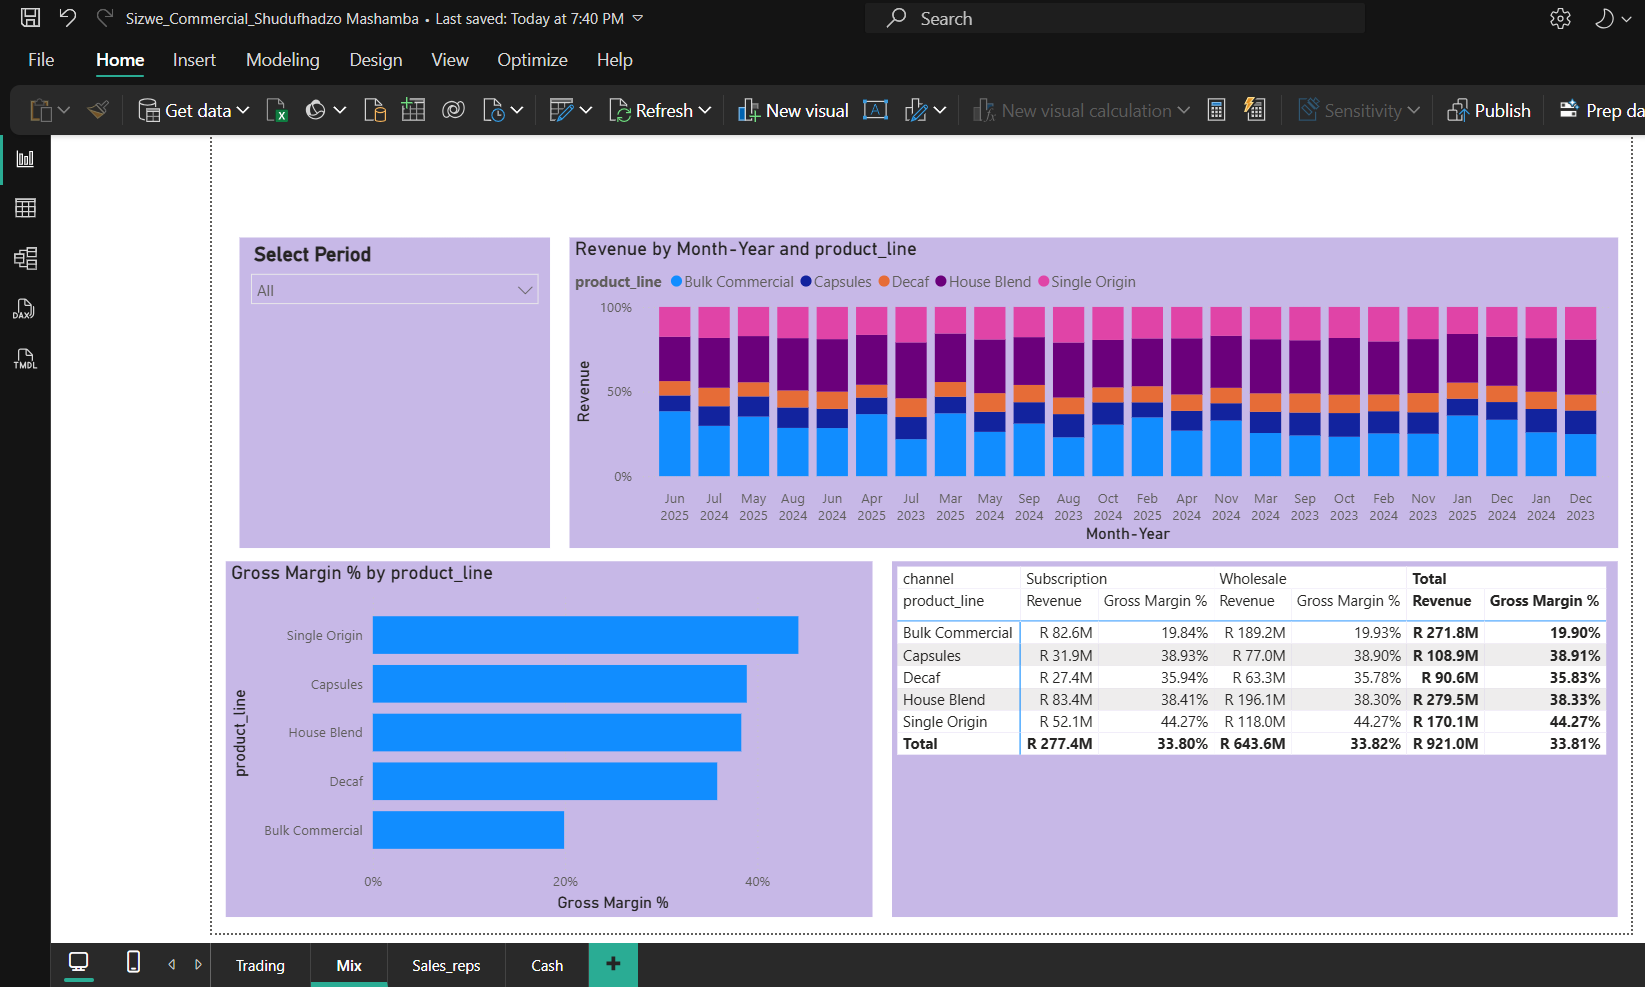

Layout of this report page (visuals, bound fields, positions):
{"tool":"powerbi","page":{"name":"Mix","canvas":[1280,720],"ordinal":1},"visuals":[{"type":"slicer","fields":{"Values":["DimDate.Month-Year"]},"box":[24.7,91.9,279.9,279.9],"z":0},{"type":"pivotTable","fields":{"Columns":["sizwe_sales_orders.channel"],"Rows":["sizwe_products.product_line"],"Values":["sizwe_sales_lines.Revenue","sizwe_sales_lines.Gross Margin %"]},"box":[613.4,384.2,654.5,321.1],"z":1000},{"type":"hundredPercentStackedColumnChart","fields":{"Category":["DimDate.Month-Year"],"Series":["sizwe_products.product_line"],"Y":["sizwe_sales_lines.Revenue"]},"box":[322.5,91.9,945.5,279.9],"z":2000},{"type":"clusteredBarChart","fields":{"Category":["sizwe_products.product_line"],"Y":["sizwe_sales_lines.Gross Margin %"]},"box":[12.3,384.2,583.2,321.1],"z":3000}]}

Visuals, with their boxes on the page's 1280x720 design canvas (x1, y1, x2, y2). These are canvas units, not pixel positions in the 1645x987 screenshot, which may show the page scaled, cropped or inside an application window:
slicer - DimDate.Month-Year: {"left": 25, "top": 92, "right": 305, "bottom": 372}
pivotTable - sizwe_sales_orders.channel x sizwe_products.product_line: {"left": 613, "top": 384, "right": 1268, "bottom": 705}
hundredPercentStackedColumnChart - DimDate.Month-Year x sizwe_products.product_line: {"left": 322, "top": 92, "right": 1268, "bottom": 372}
clusteredBarChart - sizwe_products.product_line x sizwe_sales_lines.Gross Margin %: {"left": 12, "top": 384, "right": 596, "bottom": 705}
